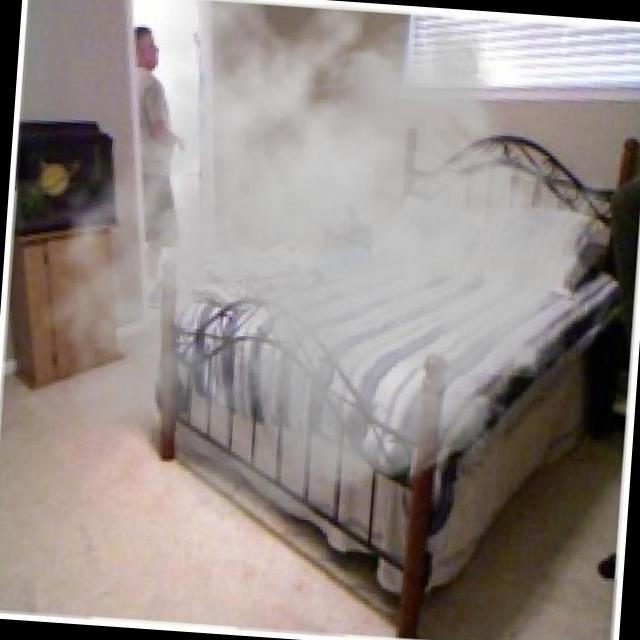Smoke: (23, 0, 621, 547)
